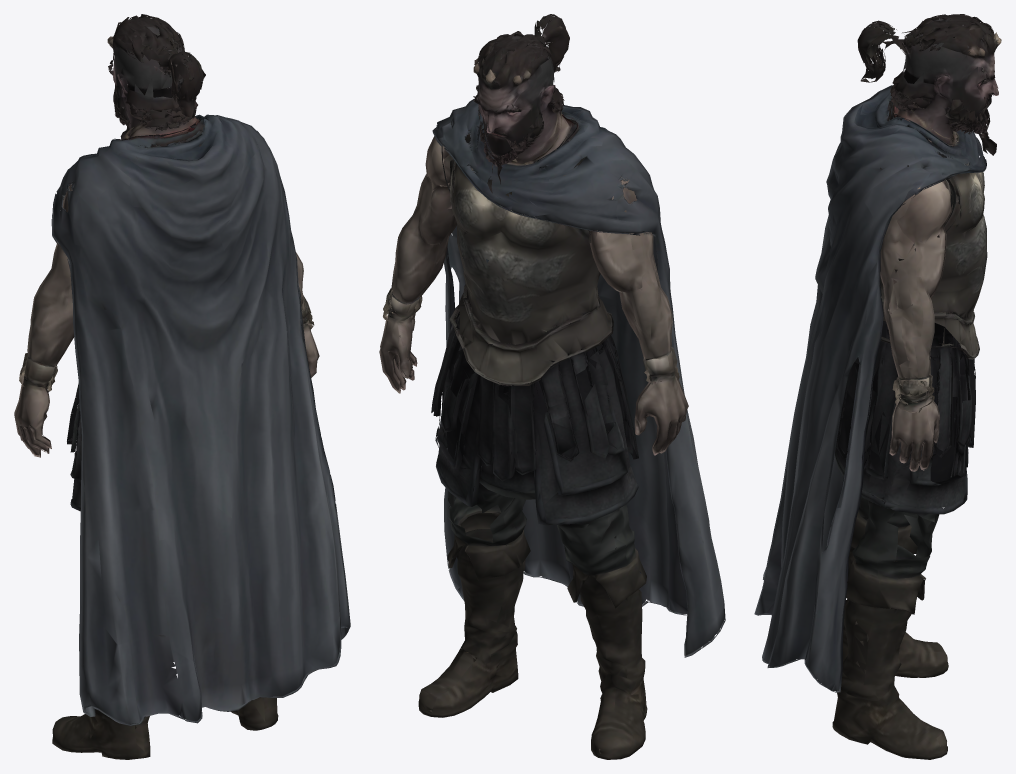
Rendered from AEDAN-GAMEREADY-V1.glb.
The picture shows the model from 3 angles, left to right: view 1: azimuth 30°, elevation 25°; view 2: azimuth 150°, elevation 25°; view 3: azimuth 270°, elevation 25°; orthographic projection.
Parts seen in each view (by area): view 1: Aedan_GameReady; view 2: Aedan_GameReady; view 3: Aedan_GameReady.
Boxes of the visible parts, box(x1,y1,x2,y2) form: Aedan_GameReady: box(14, 14, 350, 759); Aedan_GameReady: box(379, 14, 725, 759); Aedan_GameReady: box(754, 14, 1001, 759).
Size of the model in its own units: 0.3896 by 0.8686 by 0.2814.
Materials: 1 (1 with a texture image).
